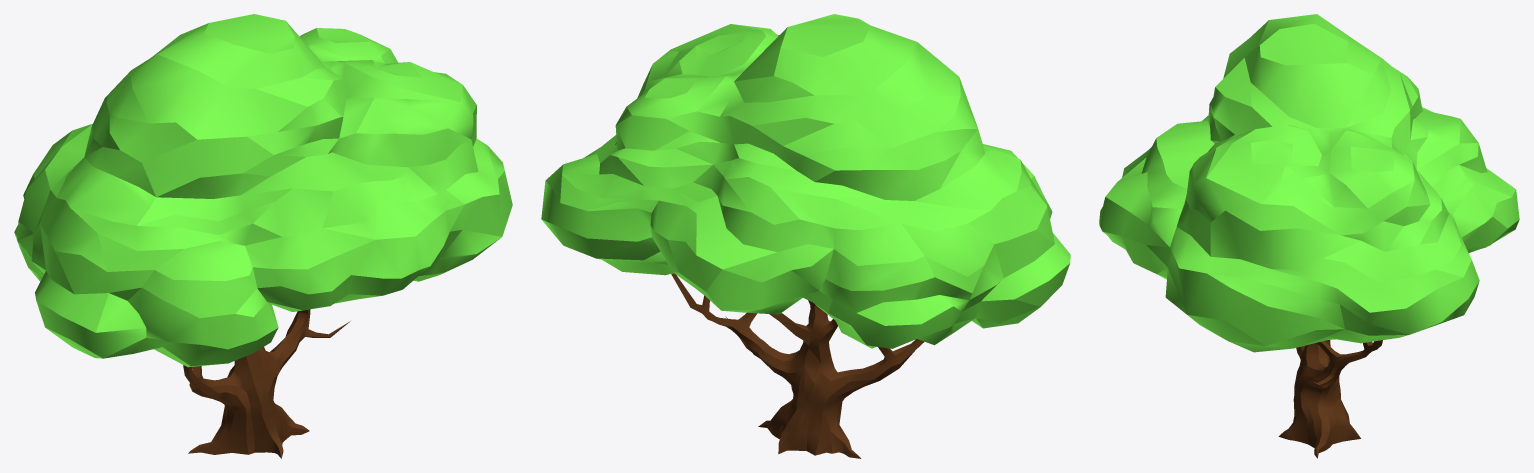
The picture shows the model from 3 angles, left to right: view 1: azimuth 30°, elevation 25°; view 2: azimuth 150°, elevation 25°; view 3: azimuth 270°, elevation 25°; orthographic projection. The views are drawn at different scales.
Parts seen in each view (by area): view 1: Tree_free_02; view 2: Tree_free_02; view 3: Tree_free_02.
Boxes of the visible parts, x1,y1,x2,y2 form: Tree_free_02: (14,14,512,458); Tree_free_02: (541,14,1070,458); Tree_free_02: (1099,14,1519,458).
Bounding box in the file's own units: 1327 × 1168 × 1148.
Materials: 1 (1 with a texture image).
